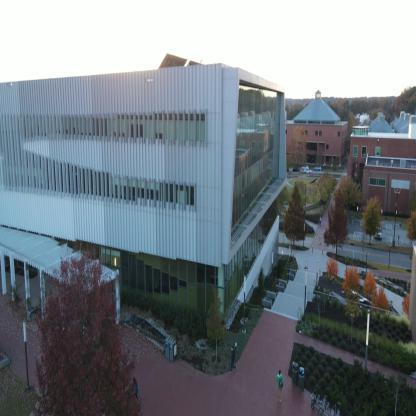Hunt Library: (0, 7, 310, 372)
